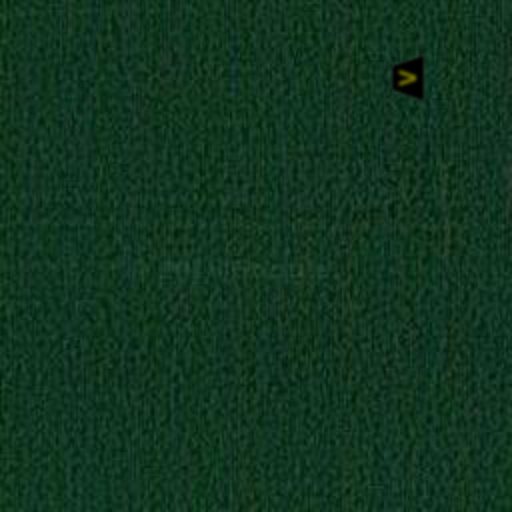trapezoid: (384, 54, 432, 102)
